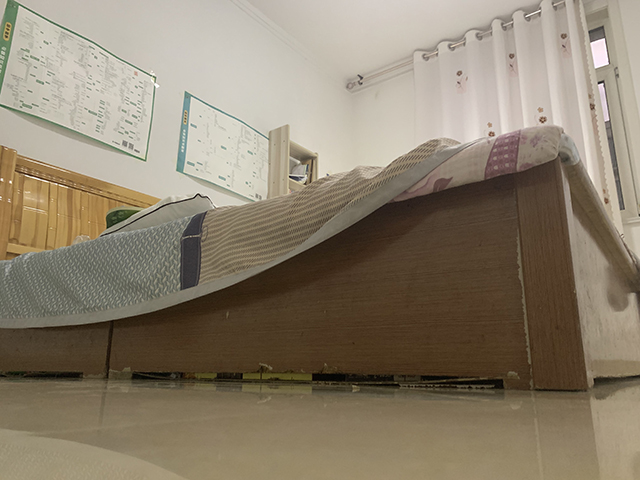bed: (1, 122, 640, 394)
